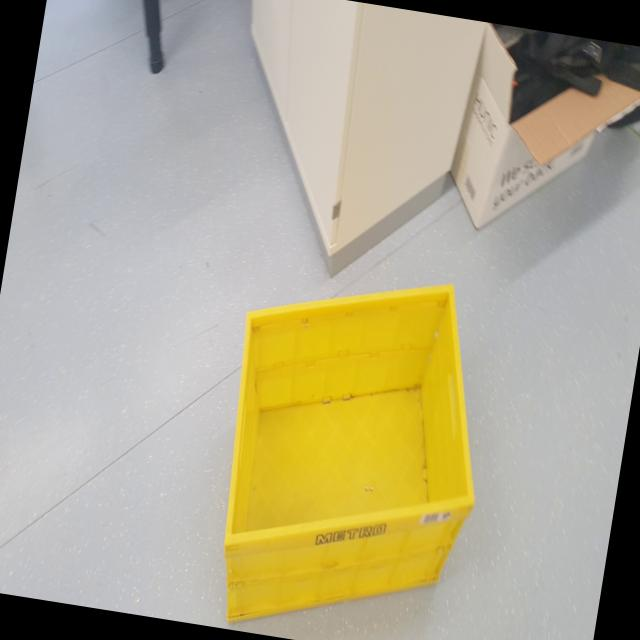box: (188, 245, 511, 640)
